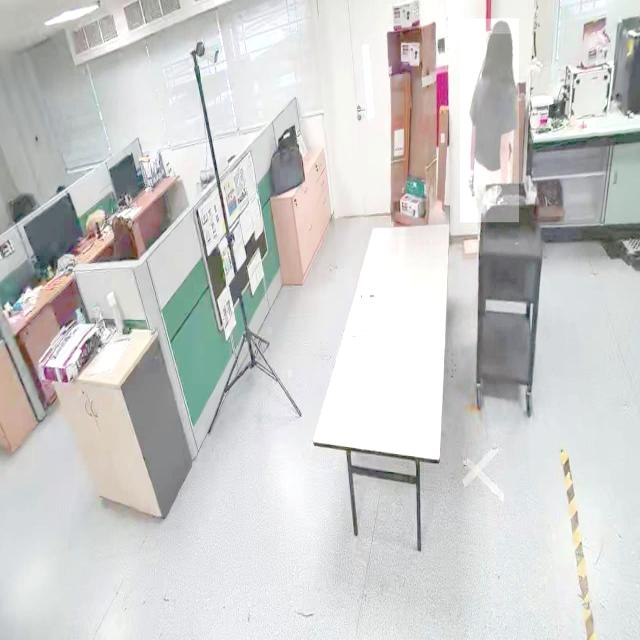head_nohelmet: (491, 18, 513, 34)
person: (459, 19, 519, 223)
